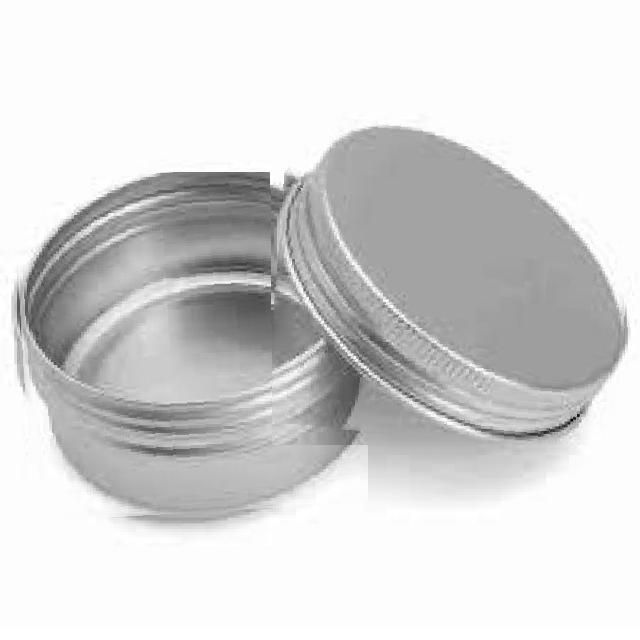recyclable: (12, 172, 368, 522), (270, 121, 632, 445)
